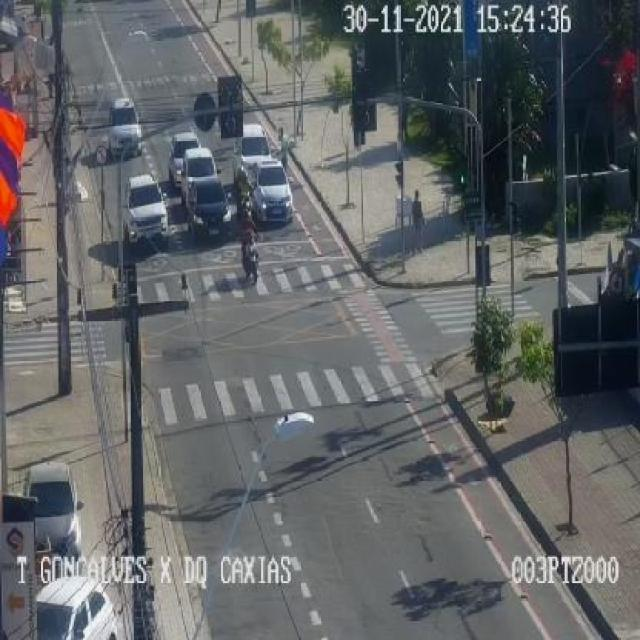Car: (124, 172, 170, 242), (108, 94, 146, 163), (252, 160, 292, 224), (190, 179, 233, 234), (234, 124, 269, 176), (181, 150, 220, 187), (168, 128, 200, 169)
